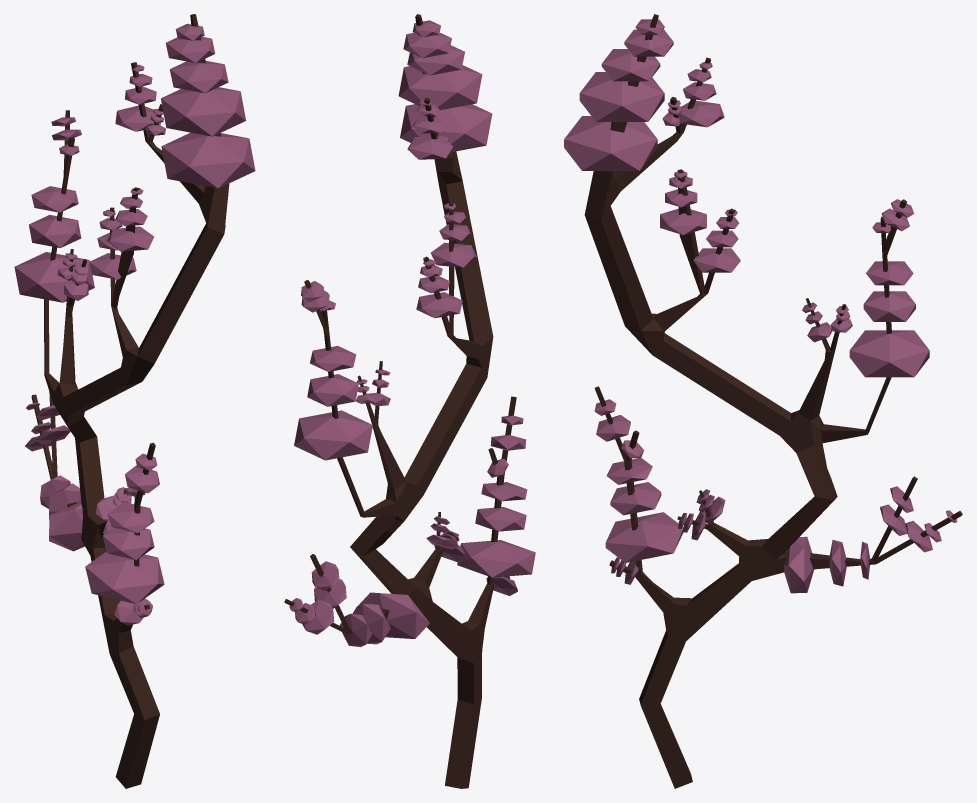
The model's file is tree-2.fbx.
3 renders of one model, left to right at view 1: azimuth 30°, elevation 25°; view 2: azimuth 150°, elevation 25°; view 3: azimuth 270°, elevation 25°, orthographic. The views are drawn at different scales.
Visible parts, largest first — view 1: Cube.005, Icosphere.068, Icosphere.069, Icosphere.024, Icosphere.014, Icosphere.070, Icosphere.034, Icosphere.016, Icosphere.025, Icosphere.028, Icosphere.071, Icosphere.017 (+7 smaller); view 2: Cube.005, Icosphere.014, Icosphere.069, Icosphere.068, Icosphere.024, Icosphere.034, Icosphere.016, Icosphere.070, Icosphere.025, Icosphere.071, Icosphere.017, Icosphere.019 (+9 smaller); view 3: Cube.005, Icosphere.068, Icosphere.014, Icosphere.069, Icosphere.024, Icosphere.070, Icosphere.016, Icosphere.034, Icosphere.025, Icosphere.071, Icosphere.045, Icosphere.019 (+3 smaller).
Part boxes in pixels (bbox=[...]): Cube.005: bbox=[31, 14, 229, 788]; Icosphere.068: bbox=[161, 132, 255, 188]; Icosphere.069: bbox=[161, 87, 245, 136]; Icosphere.024: bbox=[85, 551, 164, 604]; Icosphere.014: bbox=[14, 252, 94, 302]; Icosphere.070: bbox=[170, 61, 228, 93]; Icosphere.034: bbox=[49, 502, 84, 551]; Icosphere.016: bbox=[29, 214, 81, 247]; Icosphere.025: bbox=[102, 527, 154, 560]; Icosphere.028: bbox=[107, 502, 154, 533]; Icosphere.071: bbox=[166, 36, 215, 62]; Icosphere.017: bbox=[31, 186, 78, 212]; Cube.005: bbox=[284, 14, 516, 788]; Icosphere.014: bbox=[294, 410, 372, 460]; Icosphere.069: bbox=[398, 65, 482, 110]; Icosphere.068: bbox=[400, 104, 492, 152]; Icosphere.024: bbox=[457, 540, 535, 577]; Icosphere.034: bbox=[358, 592, 429, 638]; Icosphere.016: bbox=[307, 374, 358, 406]; Icosphere.070: bbox=[407, 45, 464, 75]; Icosphere.025: bbox=[475, 507, 526, 531]; Icosphere.071: bbox=[403, 33, 451, 58]; Icosphere.017: bbox=[310, 346, 356, 371]; Icosphere.019: bbox=[416, 292, 462, 318]; Cube.005: bbox=[584, 14, 962, 788]; Icosphere.068: bbox=[564, 116, 657, 170]; Icosphere.014: bbox=[849, 330, 929, 377]; Icosphere.069: bbox=[579, 72, 664, 121]; Icosphere.024: bbox=[605, 512, 683, 562]; Icosphere.070: bbox=[601, 49, 660, 81]; Icosphere.016: bbox=[863, 291, 915, 321]; Icosphere.034: bbox=[784, 536, 814, 593]; Icosphere.025: bbox=[610, 482, 661, 515]; Icosphere.071: bbox=[624, 29, 673, 56]; Icosphere.045: bbox=[660, 208, 706, 235]; Icosphere.019: bbox=[693, 248, 740, 272].
Bounding box in the file's own units: 1914 × 9797 × 4448.
